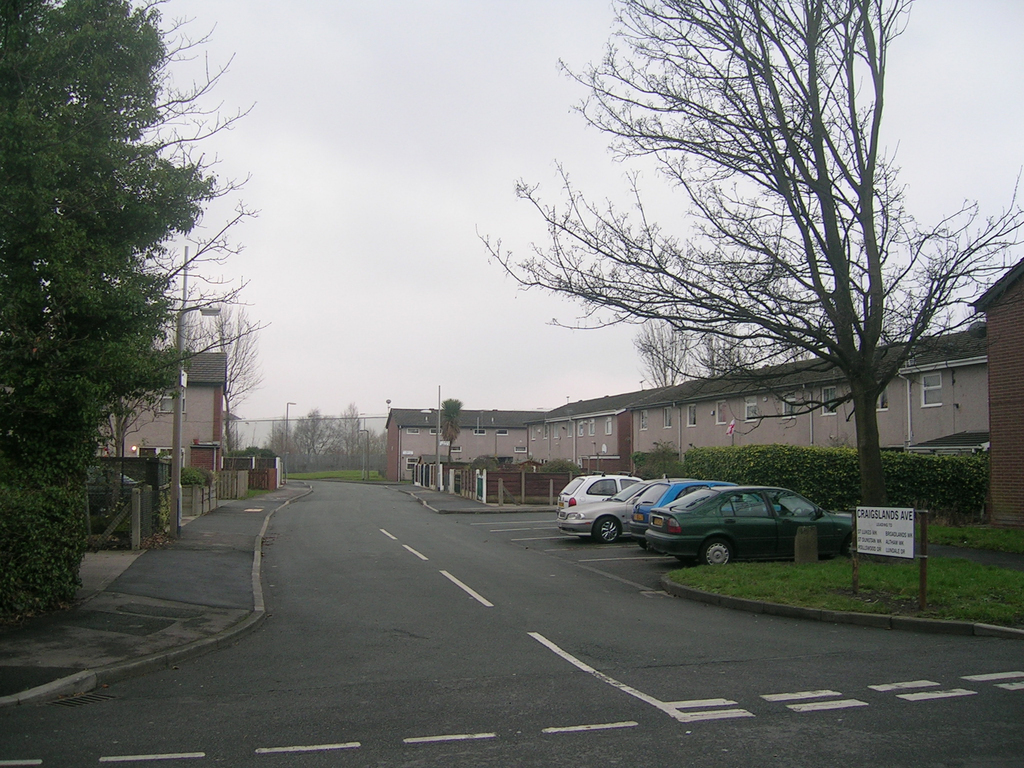Car: (550, 471, 855, 568), (552, 472, 693, 541), (619, 472, 732, 556), (557, 471, 645, 510)
